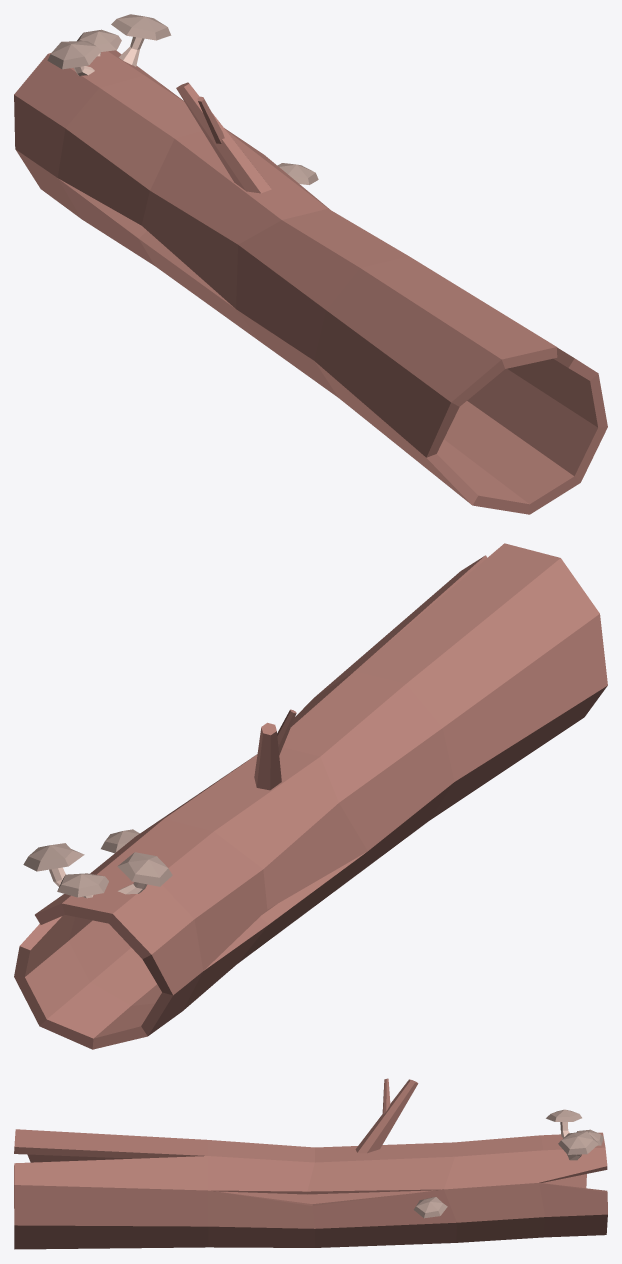
The model's file is log.glb.
3 views of the same model, one above another, from view 1: azimuth 30°, elevation 25°; view 2: azimuth 150°, elevation 25°; view 3: azimuth 270°, elevation 25° (orthographic). The views are drawn at different scales.
Parts seen in each view (by area): view 1: WoodLog; view 2: WoodLog; view 3: WoodLog.
Part boxes in pixels (box(x1,y1,x2,y2)): WoodLog: box(14, 14, 607, 514); WoodLog: box(14, 543, 607, 1049); WoodLog: box(14, 1078, 607, 1249).
Size of the model in its own units: 0.6327 by 0.7485 by 2.67.
